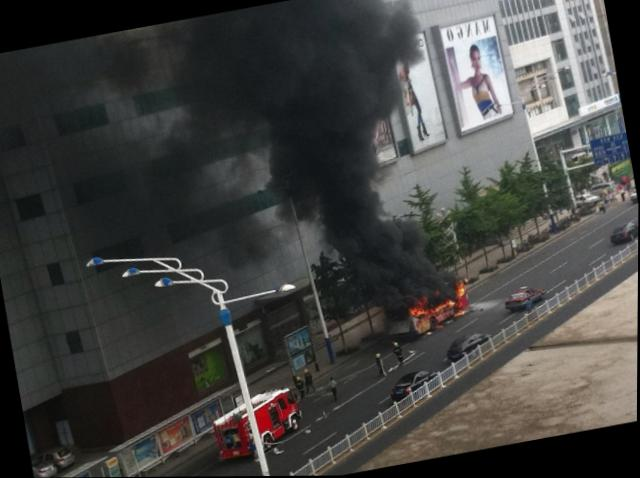fire: (396, 273, 476, 343)
